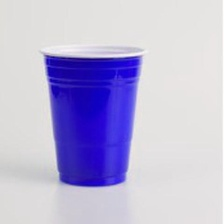glass: (34, 40, 154, 194)
